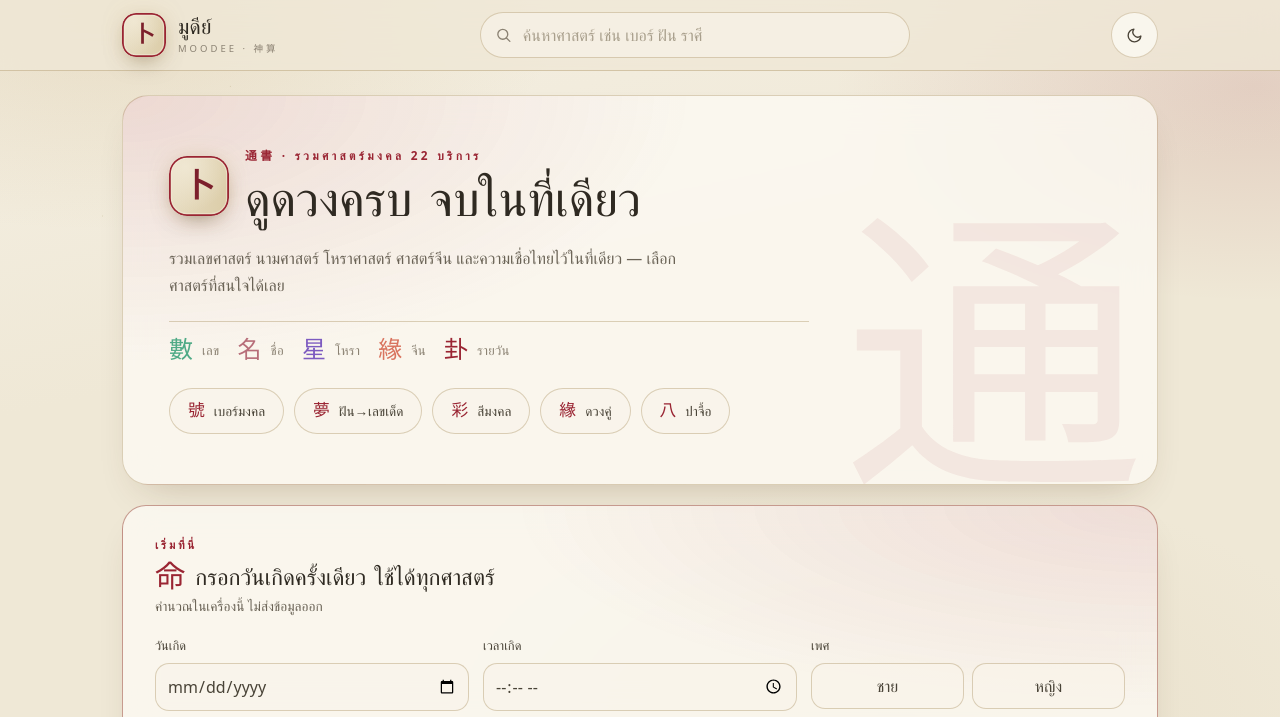
Test: App route switch › typing in the header search shows search results on the hub
Type "เบอร์" into the field with placeholder "ค้นหาศาสตร์ เช่น เบอร์ ฝัน ราศี". click: (695, 35)
box: left=480, top=12, right=910, bottom=58
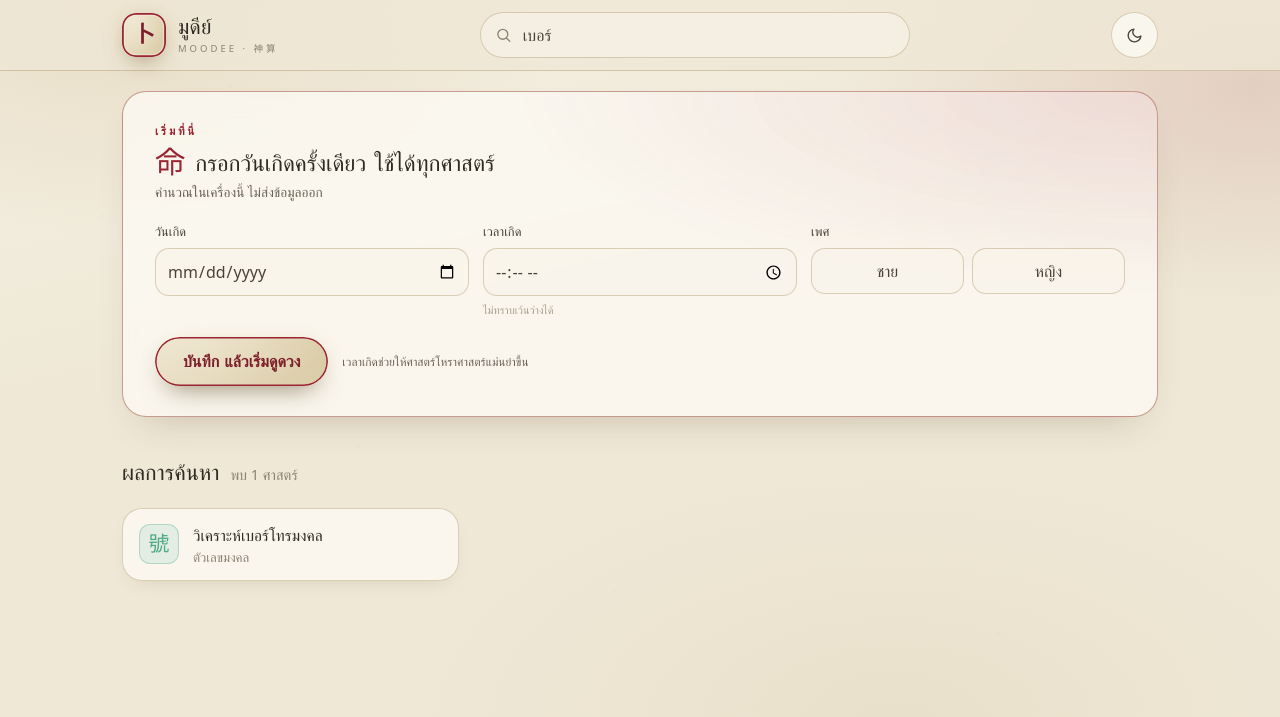
Expected: the heading "ผลการค้นหา" is shown, left=122, top=455, right=219, bottom=490
